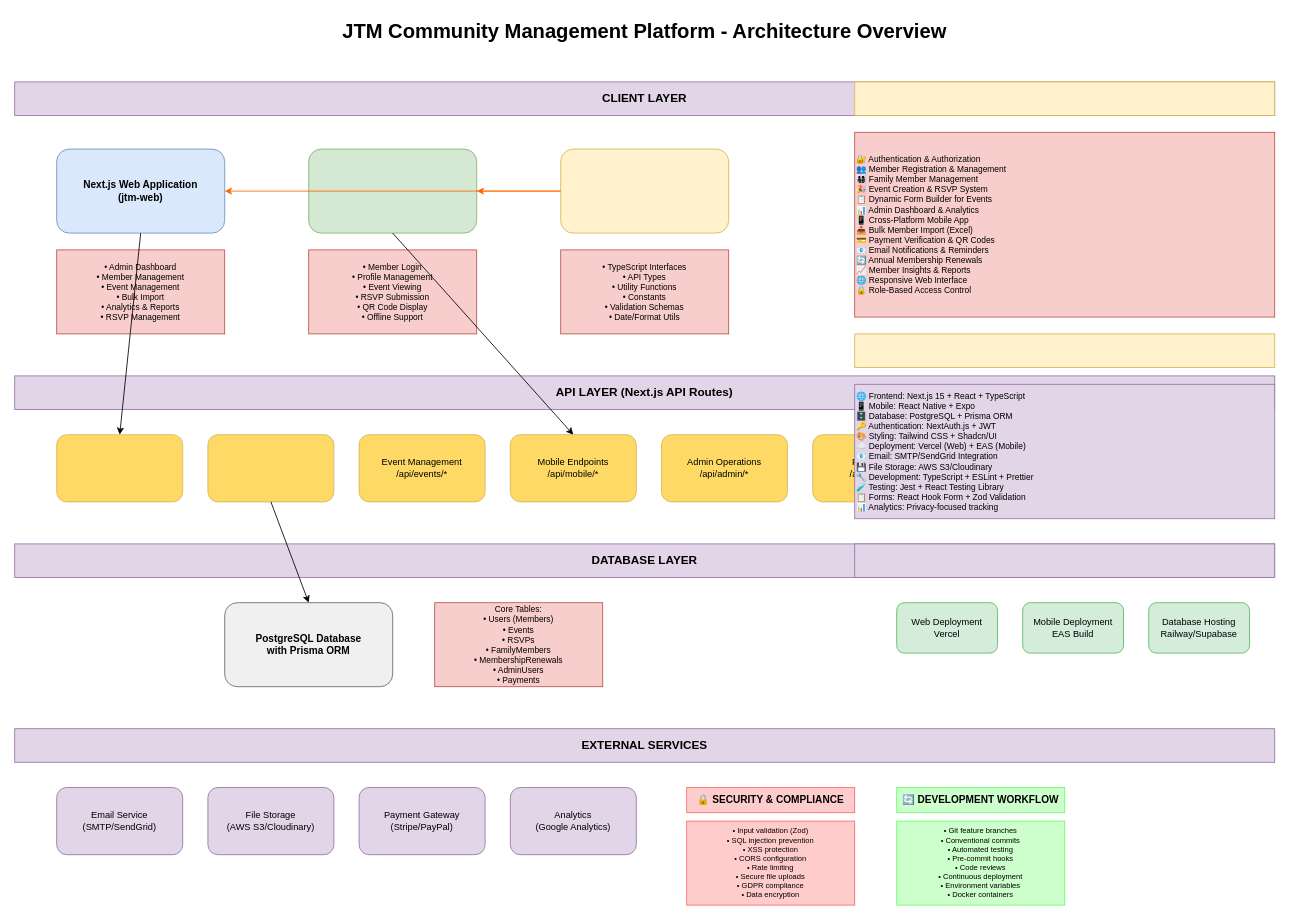
The diagram is 1289 pixels wide and 920 high, and some of its shapes have lost their labels. Each missing label, with the centre of its shape:
"Authentication APIs /api/auth/*" belongs at (x=119, y=468).
"DEPLOYMENT INFRASTRUCTURE" belongs at (x=1064, y=560).
"KEY PLATFORM FEATURES" belongs at (x=1064, y=98).
"React Native Mobile App (jtm-mobile)" belongs at (x=392, y=190).
"Shared Types Package (jtm-shared)" belongs at (x=644, y=190).
"TECHNOLOGY STACK" belongs at (x=1064, y=350).
"User Management /api/users/*" belongs at (x=270, y=468).
